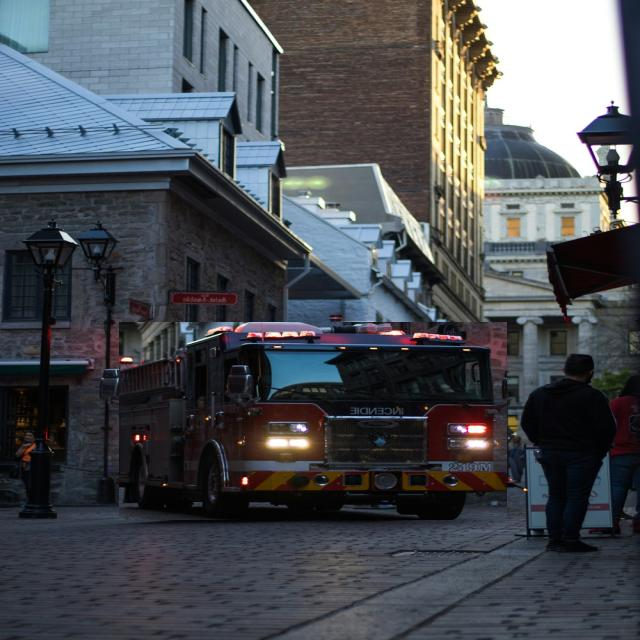emergency: (119, 323, 507, 520)
